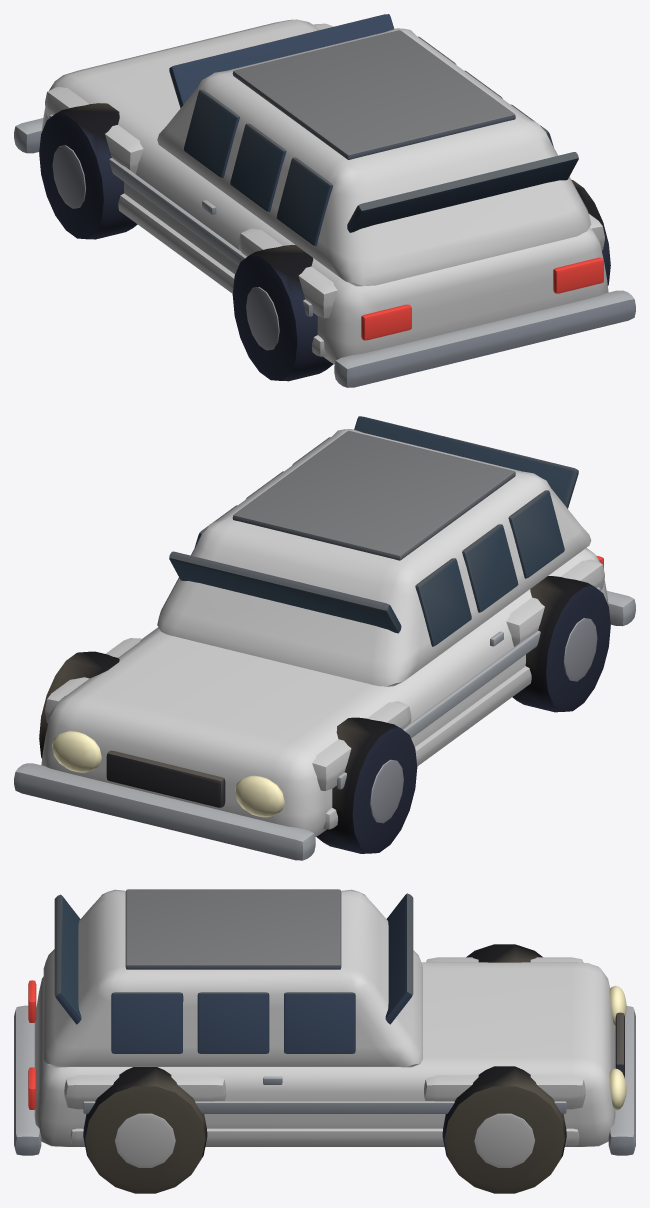
File: CarWagon.fbx
3 views of the same model, one above another, from view 1: azimuth 30°, elevation 25°; view 2: azimuth 150°, elevation 25°; view 3: azimuth 270°, elevation 25° (orthographic). The views are drawn at different scales.
Visible parts, largest first — view 1: SM_Vehicle_Wagon_Body, SM_Vehicle_Wagon_Trim, SM_Vehicle_Wagon_Glass, SM_Vehicle_Wagon_Wheels, SM_Vehicle_Wagon_Lights; view 2: SM_Vehicle_Wagon_Body, SM_Vehicle_Wagon_Trim, SM_Vehicle_Wagon_Wheels, SM_Vehicle_Wagon_Glass, SM_Vehicle_Wagon_Lights; view 3: SM_Vehicle_Wagon_Body, SM_Vehicle_Wagon_Trim, SM_Vehicle_Wagon_Wheels, SM_Vehicle_Wagon_Glass, SM_Vehicle_Wagon_Lights.
Boxes of the visible parts, x1,y1,x2,y2 form: SM_Vehicle_Wagon_Body: (41,19,608,364); SM_Vehicle_Wagon_Trim: (14,30,635,387); SM_Vehicle_Wagon_Glass: (169,14,578,245); SM_Vehicle_Wagon_Wheels: (39,103,610,381); SM_Vehicle_Wagon_Lights: (361,257,603,340); SM_Vehicle_Wagon_Body: (41,429,608,836); SM_Vehicle_Wagon_Trim: (14,431,635,860); SM_Vehicle_Wagon_Wheels: (39,576,610,853); SM_Vehicle_Wagon_Glass: (169,416,578,646); SM_Vehicle_Wagon_Lights: (52,555,603,817); SM_Vehicle_Wagon_Body: (34,889,615,1146); SM_Vehicle_Wagon_Trim: (14,889,635,1155); SM_Vehicle_Wagon_Wheels: (83,944,566,1193); SM_Vehicle_Wagon_Glass: (54,893,413,1053); SM_Vehicle_Wagon_Lights: (28,980,626,1110).
Bounding box in the file's own units: 5.26 × 3.34 × 9.52.
